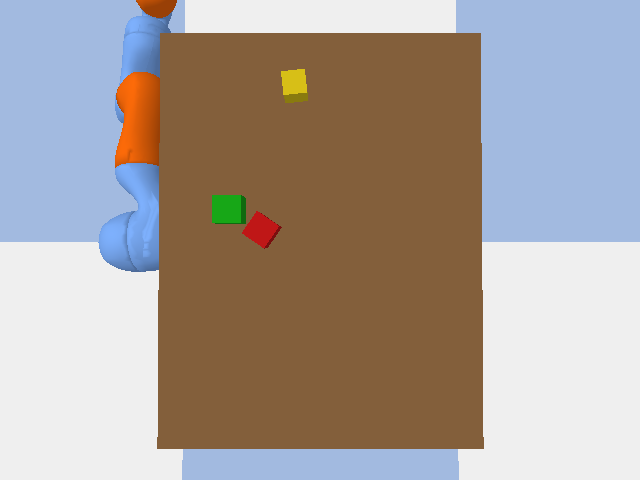green_obj: (212, 195, 245, 223)
red_obj: (242, 211, 281, 248)
yellow_obj: (281, 69, 307, 102)
